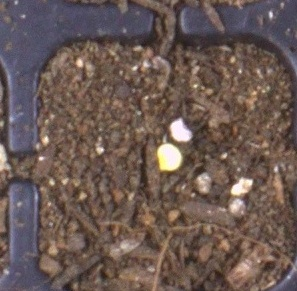chilli seed: (157, 143, 182, 171)
